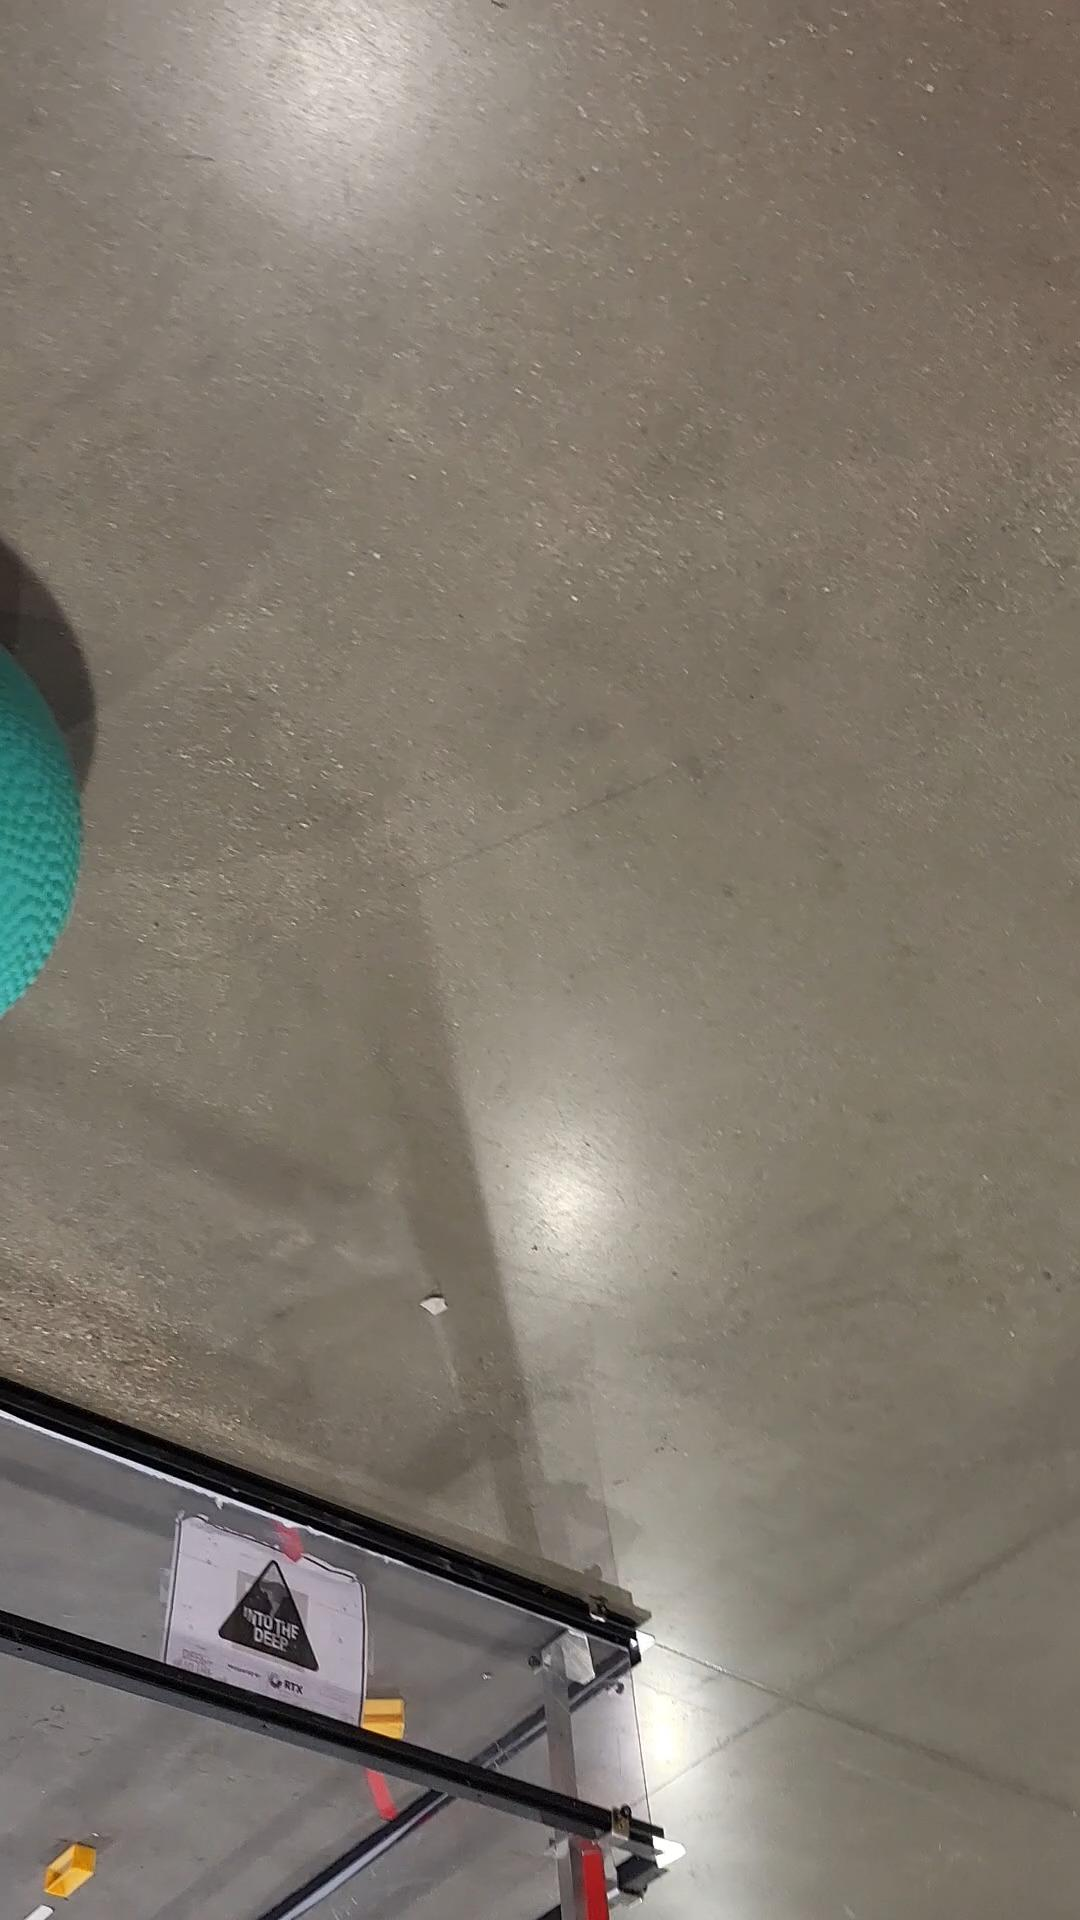algae: (0, 611, 87, 1050)
